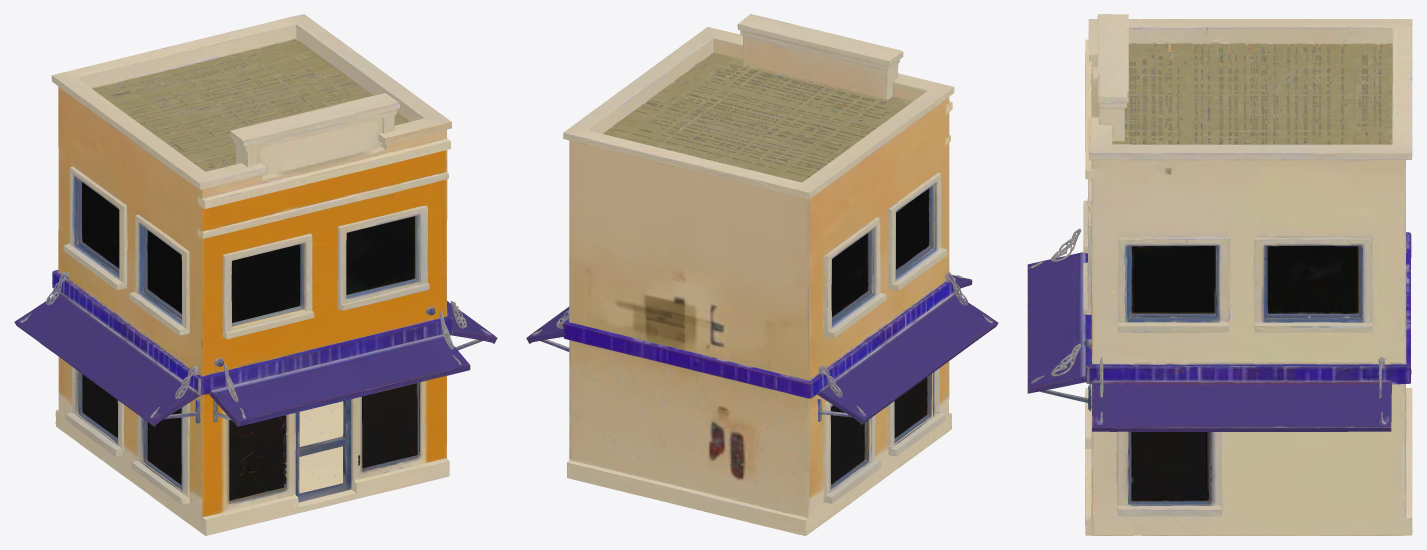
Rendered from facade-lowrise.glb.
3 views of the same model, side by side, from view 1: azimuth 30°, elevation 25°; view 2: azimuth 150°, elevation 25°; view 3: azimuth 270°, elevation 25° (orthographic). The views are drawn at different scales.
Parts seen in each view (by area): view 1: geometry_0; view 2: geometry_0; view 3: geometry_0.
Part boxes in pixels (<box>): geometry_0: <box>14,14,497,535</box>; geometry_0: <box>526,14,998,535</box>; geometry_0: <box>1027,14,1412,535</box>.
Bounding box in the file's own units: 0.9557 × 1 × 0.8416.
Materials: 1 (1 with a texture image).
